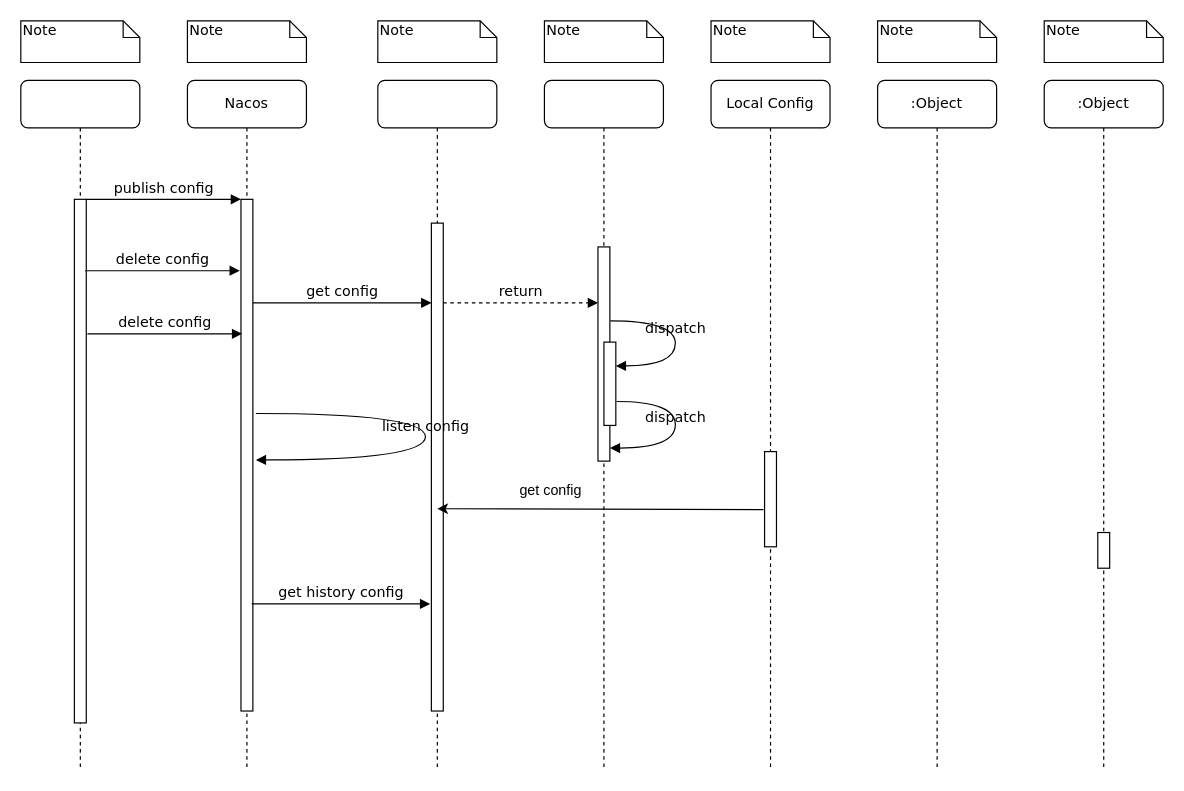
This 1184x791 diagram has some shape labels left out. The box of each missing label's shape, as (x1, y1, x2, y2) in pixels:
DP Client: (543, 79, 663, 771)
DP Server: (377, 79, 497, 771)
User: (20, 79, 140, 771)
